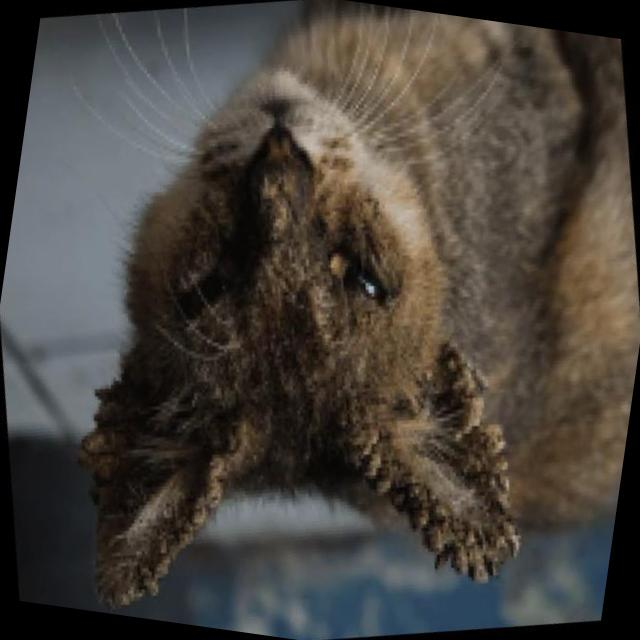Mange: (354, 345, 526, 588), (115, 439, 258, 613), (74, 409, 113, 501)
